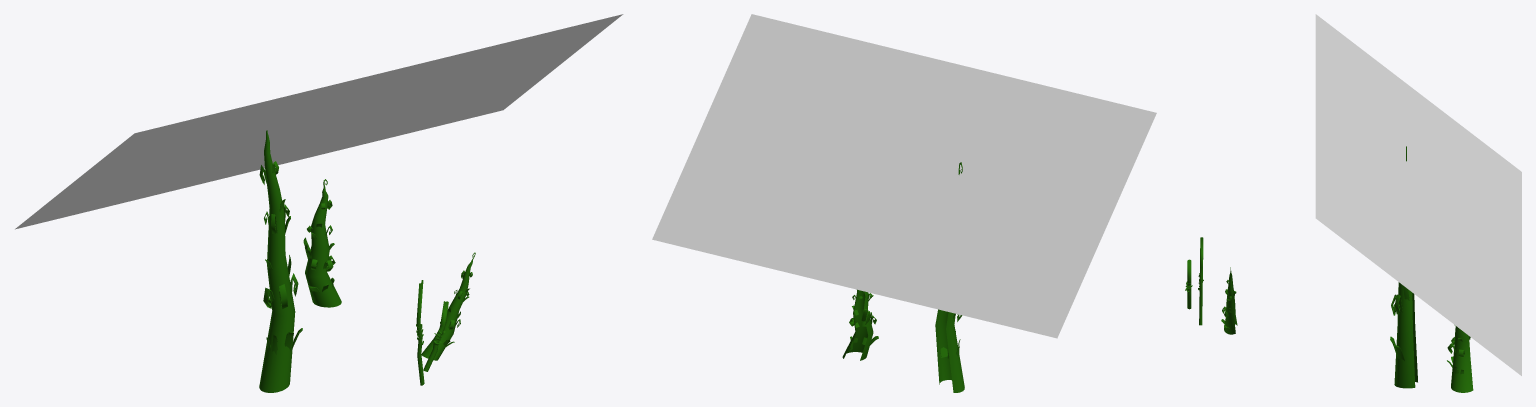
Rendered from BG_BeanStalks.fbx.
3 renders of one model, left to right at view 1: azimuth 30°, elevation 25°; view 2: azimuth 150°, elevation 25°; view 3: azimuth 270°, elevation 25°, orthographic. The views are drawn at different scales.
Visible parts, largest first — view 1: skytest, beanStalk1 (×2), BG_BeanStalks_Reference:beanStalk1; view 2: skytest, beanStalk1, BG_BeanStalks_Reference:beanStalk1; view 3: skytest, beanStalk1 (×2), BG_BeanStalks_Reference:beanStalk1, BeanStalk5.
Part boxes in pixels (x1,y1,x2,y2): skytest: (15,14,623,229); beanStalk1 (×2): (259,130,475,392); BG_BeanStalks_Reference:beanStalk1: (305,179,341,307); skytest: (652,14,1156,338); beanStalk1: (935,162,964,392); BG_BeanStalks_Reference:beanStalk1: (842,289,873,360); skytest: (1315,14,1521,375); beanStalk1 (×2): (1224,146,1417,388); BG_BeanStalks_Reference:beanStalk1: (1451,326,1473,392); BeanStalk5: (1199,237,1203,325).
Size of what is drawn, in the model's own units: 1159 by 771 by 806.
